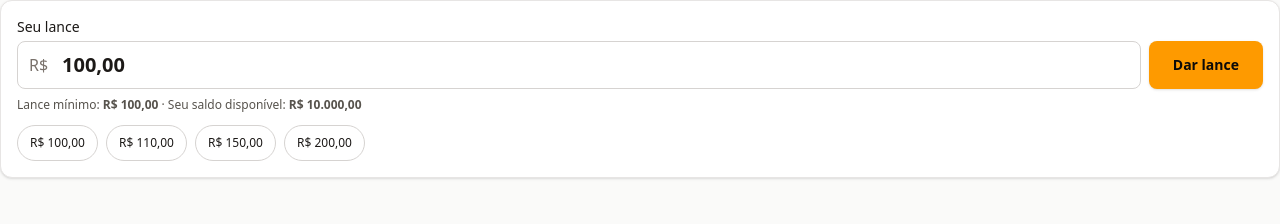
BidPanel › editar o valor desfaz a confirmacao pendente
Step 1. Replace the text in the field labelled "Seu lance" with "5.000,00" → (579, 65), box x1=17 y1=41 x2=1141 y2=89
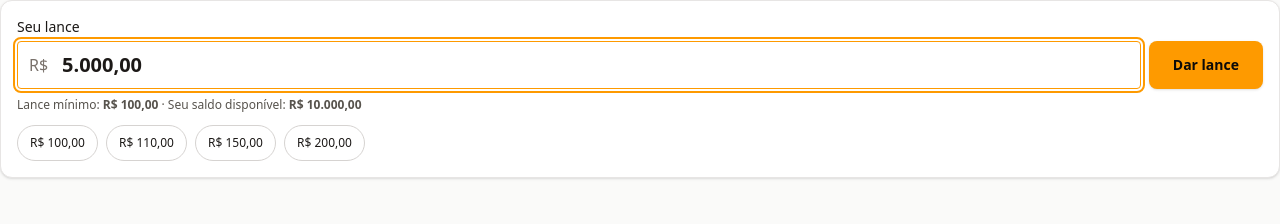
Step 2. Click the button "Dar lance" → (1206, 65), box x1=1149 y1=41 x2=1263 y2=89
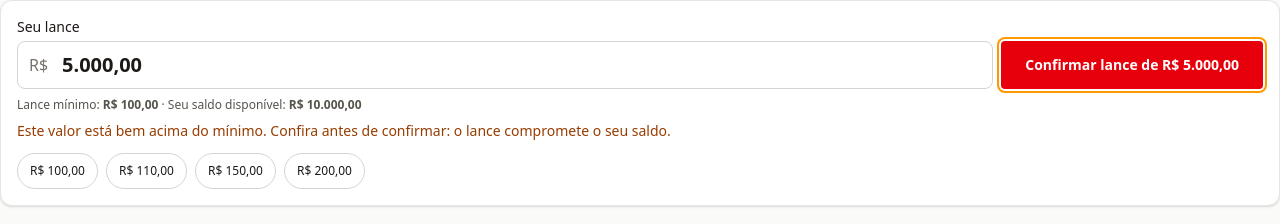
Now the button "Confirmar lance de R$ 5.000,00" is shown, box x1=1001 y1=41 x2=1263 y2=89
Step 3. Type "0" into the field labelled "Seu lance" → (505, 65), box x1=17 y1=41 x2=993 y2=89
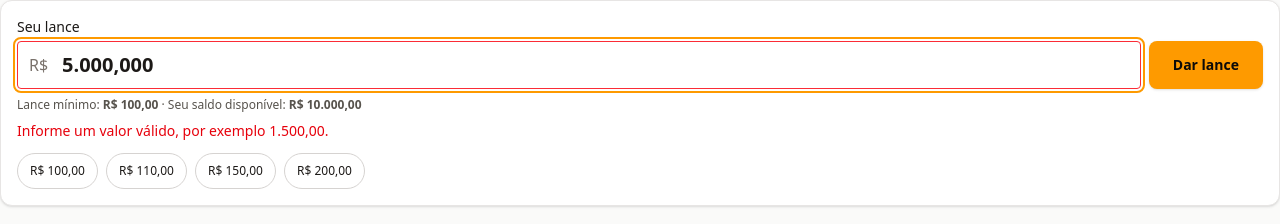
Now the button "Confirmar lance de" is gone
